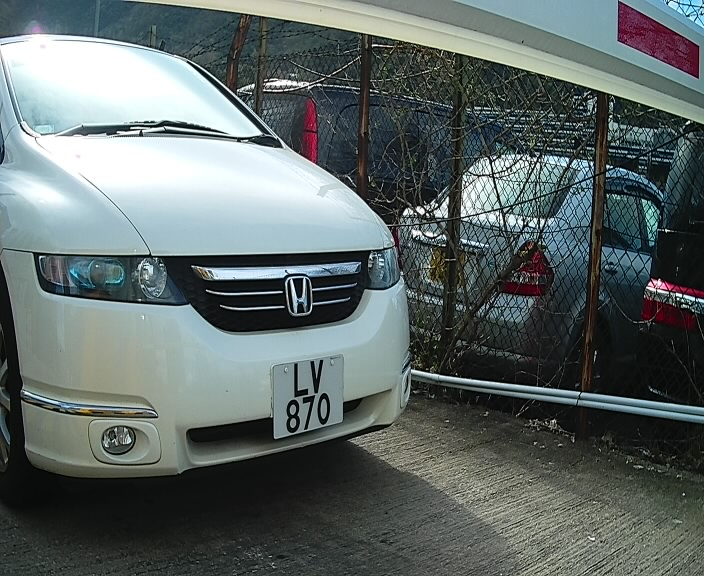License Plate: (261, 345, 356, 452)
